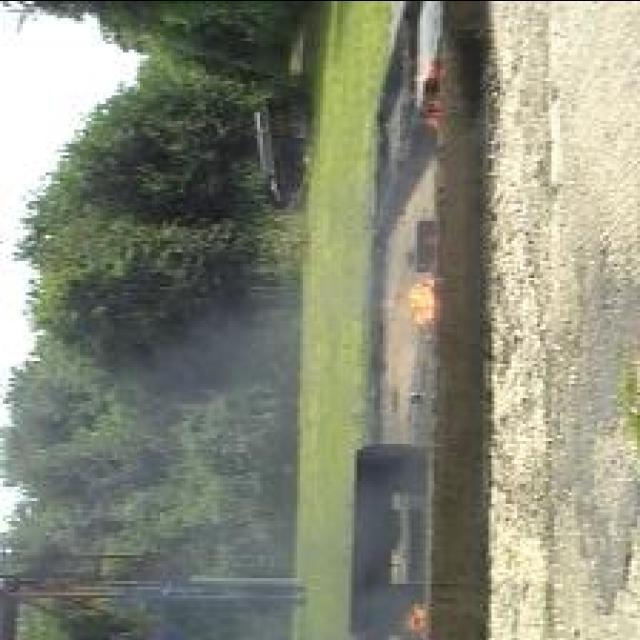Fire: (408, 276, 436, 328)
